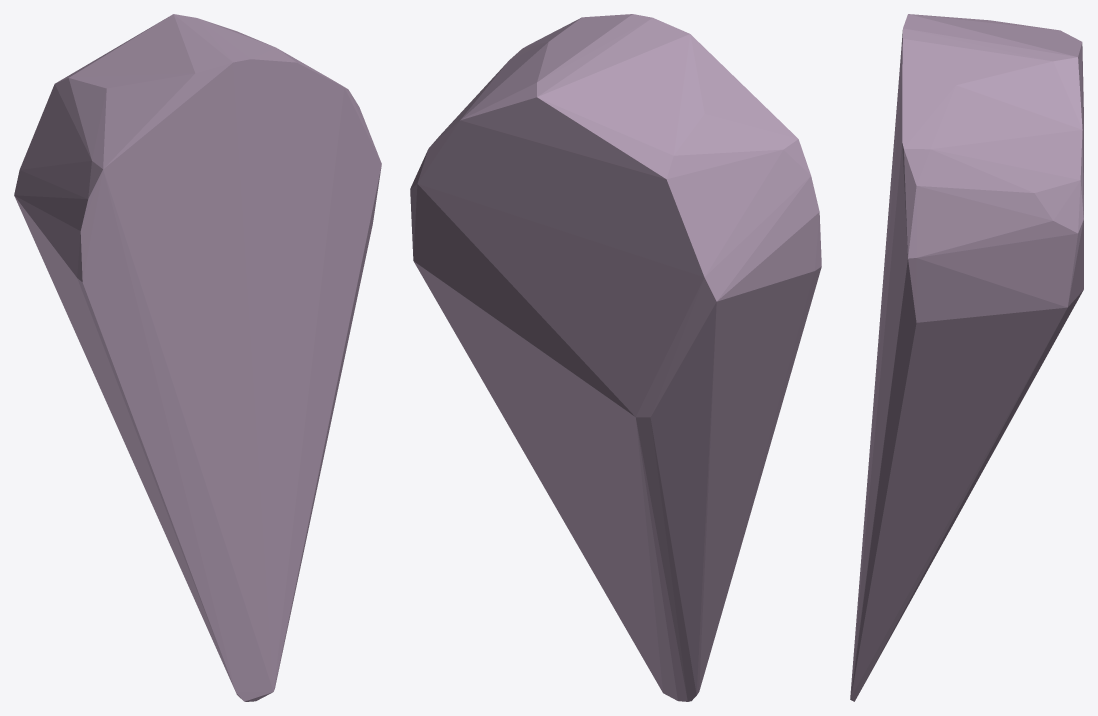
File: kitchenware_pan_t01.glb
The picture shows the model from 3 angles, left to right: view 1: azimuth 30°, elevation 25°; view 2: azimuth 150°, elevation 25°; view 3: azimuth 270°, elevation 25°; orthographic projection. The views are drawn at different scales.
Parts seen in each view (by area): view 1: geometry_0; view 2: geometry_0; view 3: geometry_0.
Part boxes in pixels (x1=…): geometry_0: x1=14, y1=14, x2=381, y2=701; geometry_0: x1=410, y1=14, x2=821, y2=701; geometry_0: x1=850, y1=14, x2=1083, y2=701.
Size of the model in its own units: 0.2424 by 0.4787 by 0.1512.
